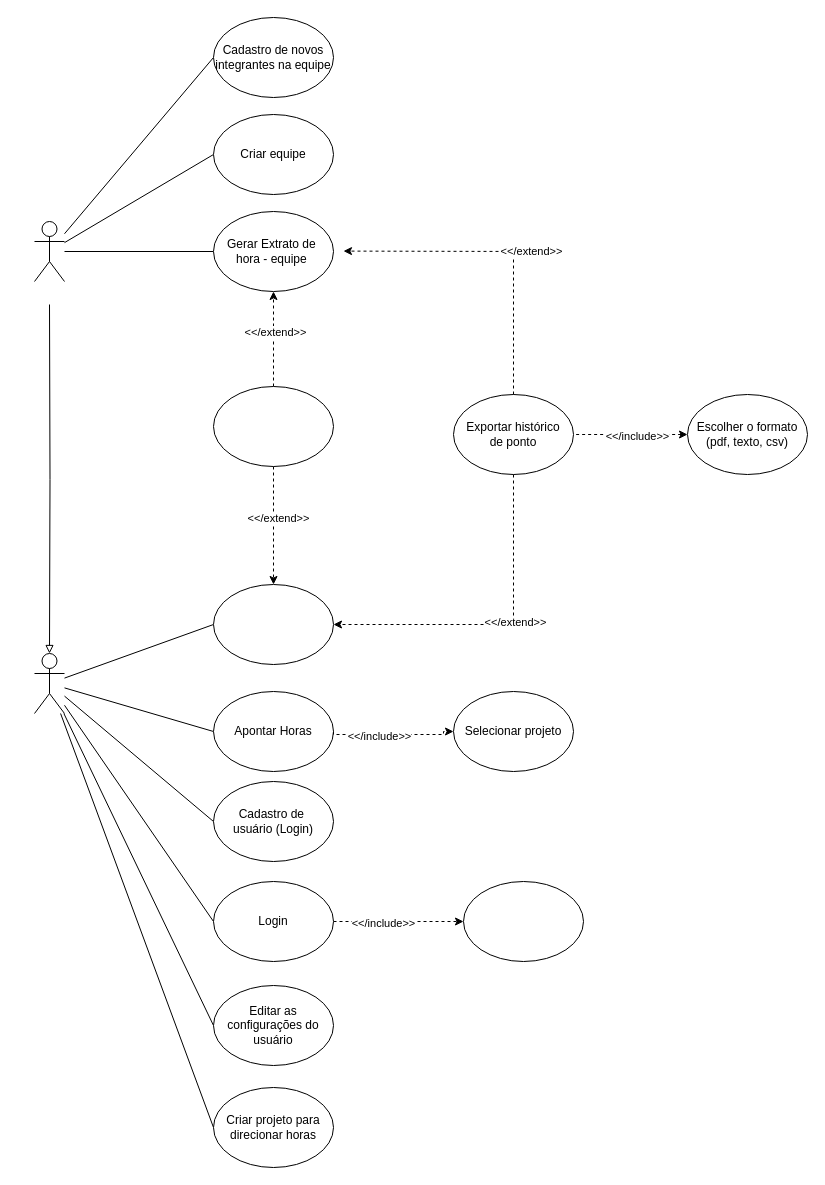
Image size: 825x1185. Some labels were removed from this diagram. Each missing label, with the centre of its shape:
Autenticação: point 523,921
Gerar Extrato de horas - individual: point 273,624
Gestor: point 49,251
Histórico de horas (grafico): point 273,426
Profissional: point 49,683
